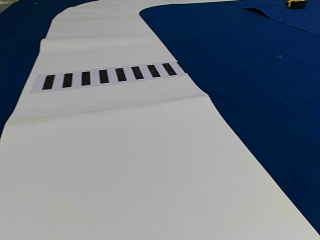crosswalk: (39, 63, 174, 88)
